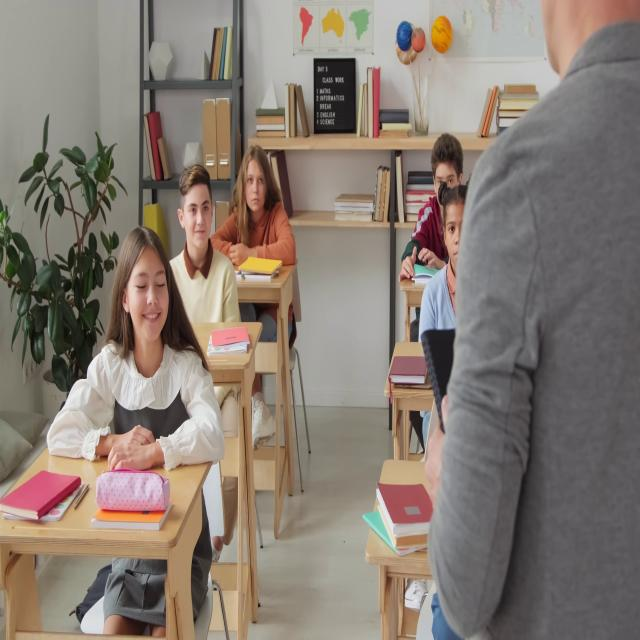listening: (45, 225, 227, 629), (216, 146, 299, 443), (138, 153, 251, 330), (417, 187, 464, 460)
reading: (398, 135, 463, 284)
